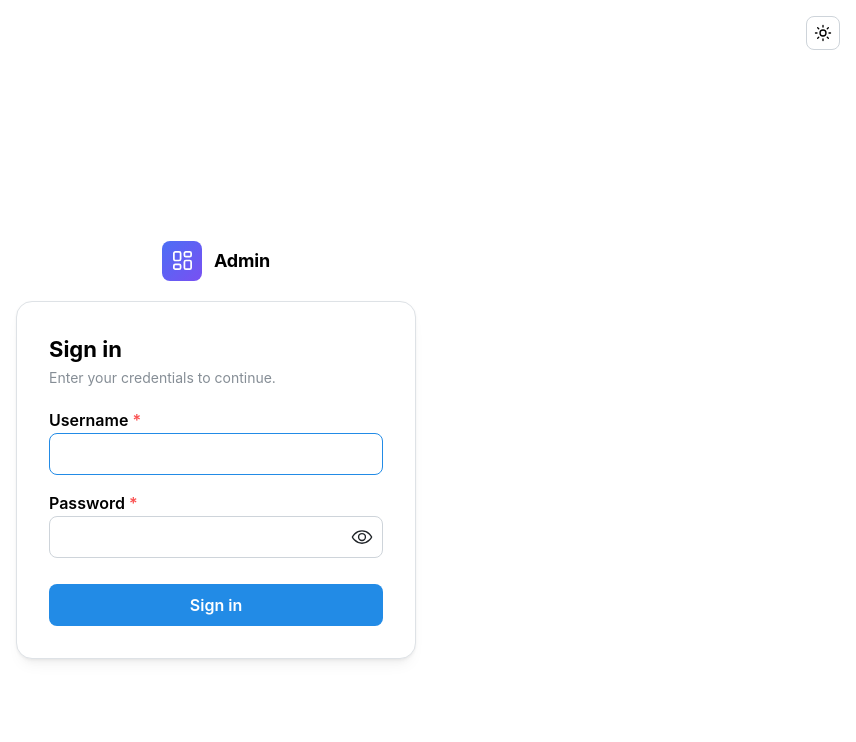
Test: a challenged sign-in › says so when this admin cannot ask for the code
Type "root" into the field labelled "Username *" at (216, 454), box top-left (49, 433), bottom-right (383, 475)
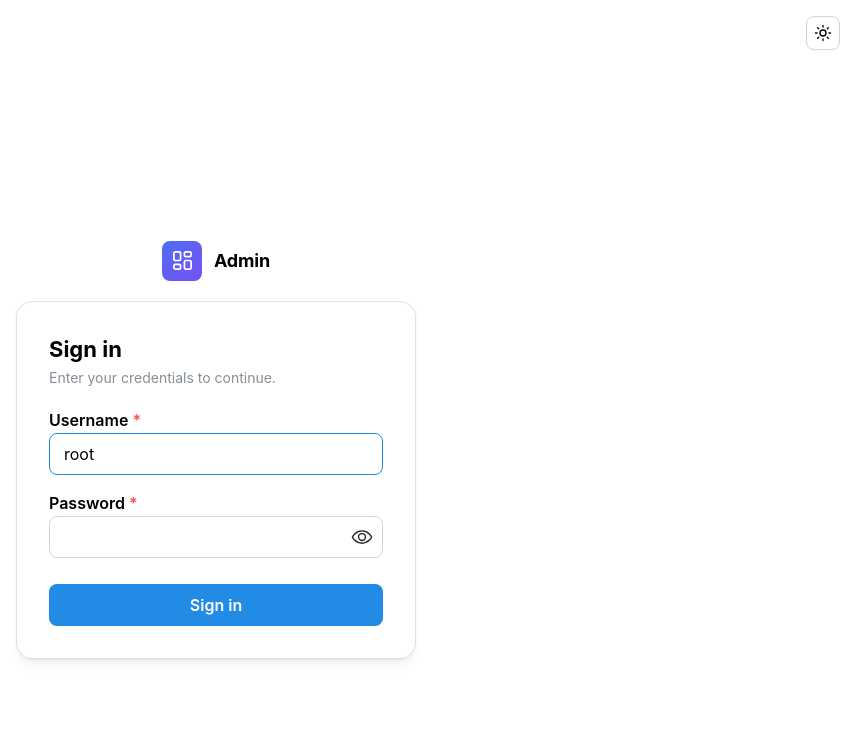
Type "hunter2" into the password field labelled "Password *" at (216, 537), box top-left (50, 517), bottom-right (382, 557)
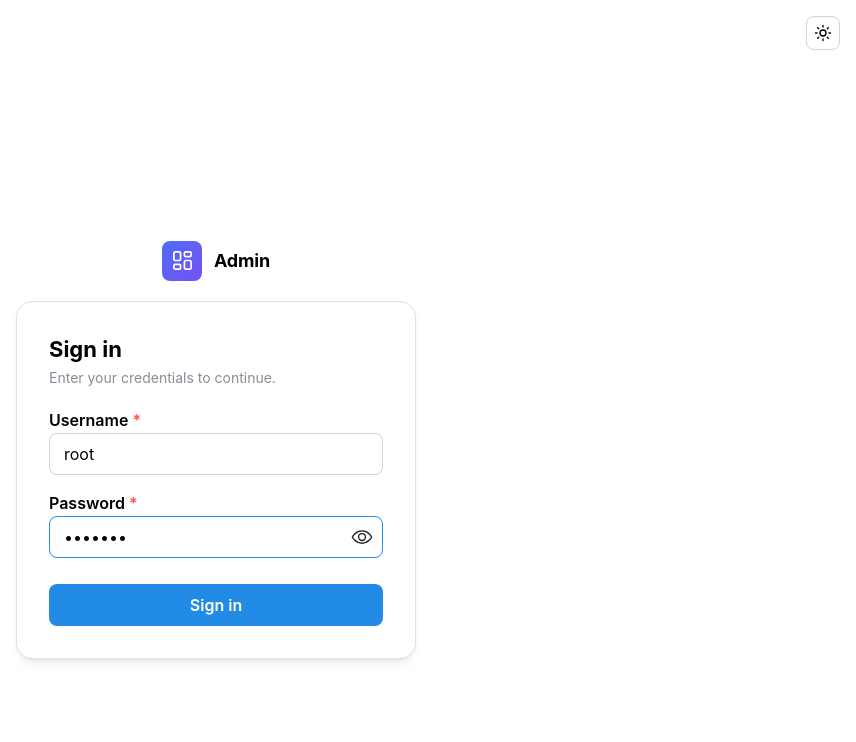
Click the button "Sign in" at (216, 605), box top-left (49, 584), bottom-right (383, 626)
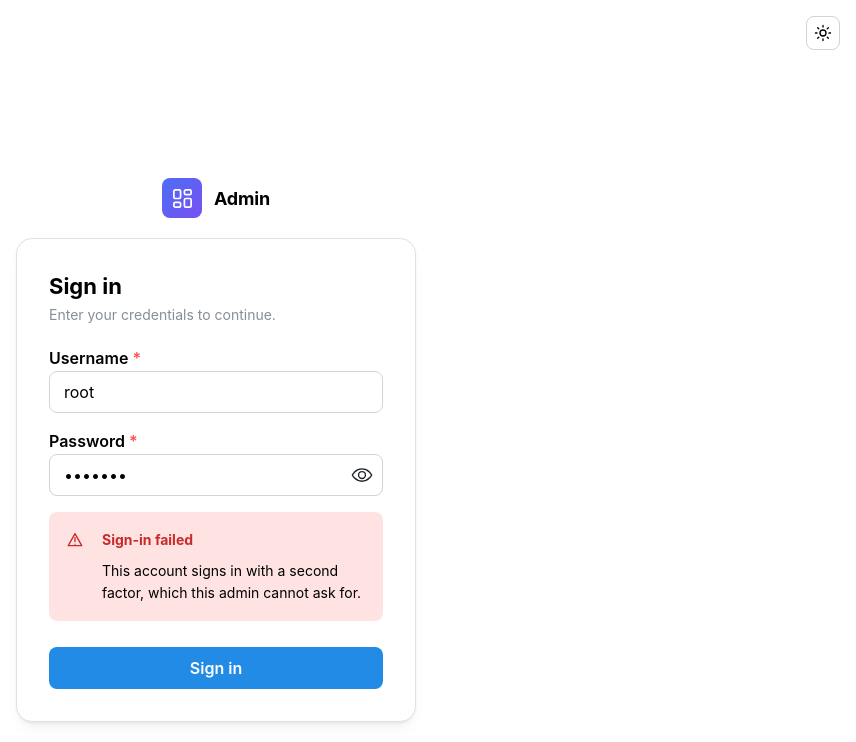
expect the text "signs in with a second factor" is shown: met, box top-left (102, 562), bottom-right (361, 601)
